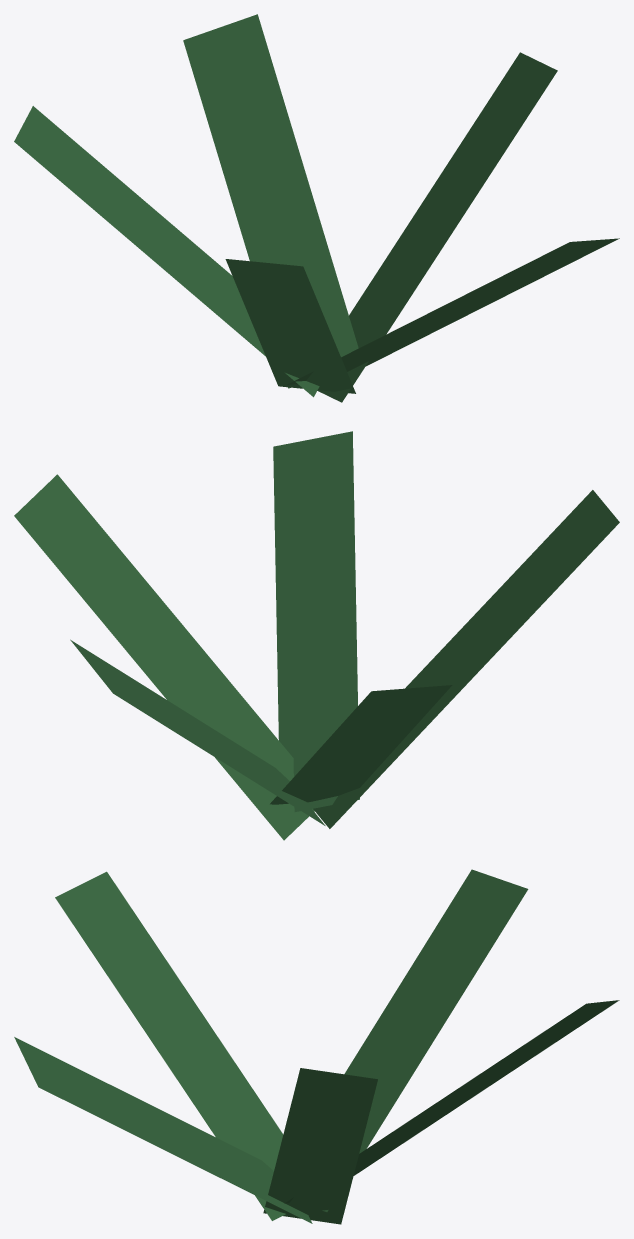
File: grassDetail.fbx
The picture shows the model from 3 angles, top to bottom: view 1: azimuth 30°, elevation 25°; view 2: azimuth 150°, elevation 25°; view 3: azimuth 270°, elevation 25°; orthographic projection. The views are drawn at different scales.
Visible parts, largest first — view 1: plane; view 2: plane; view 3: plane.
Part boxes in pixels (left/top/right/bottom): plane: left=14, top=14, right=619, bottom=402; plane: left=14, top=431, right=619, bottom=840; plane: left=14, top=869, right=619, bottom=1224.
Size of the model in its own units: 25 by 14.16 by 28.87.
Materials: 1 (1 with a texture image).
